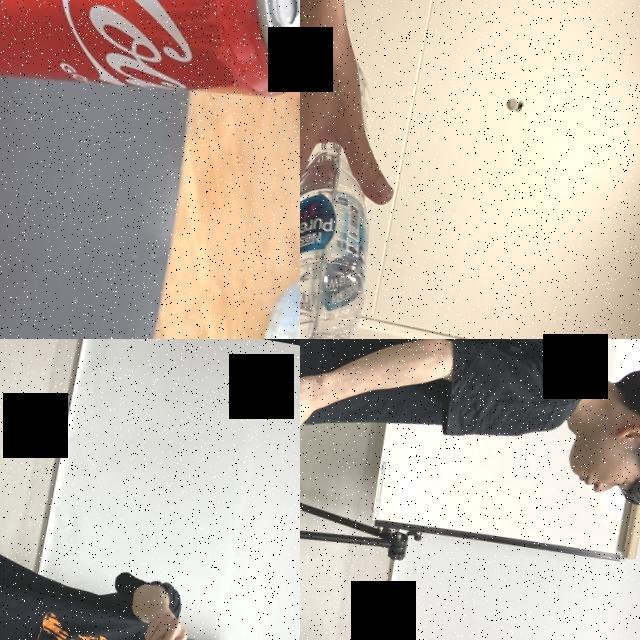bottle: (300, 54, 404, 339)
can: (0, 0, 300, 145)
